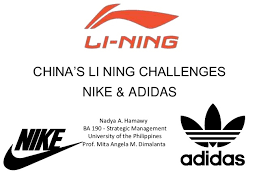adidas: (178, 103, 246, 166)
nike: (2, 141, 83, 170)
